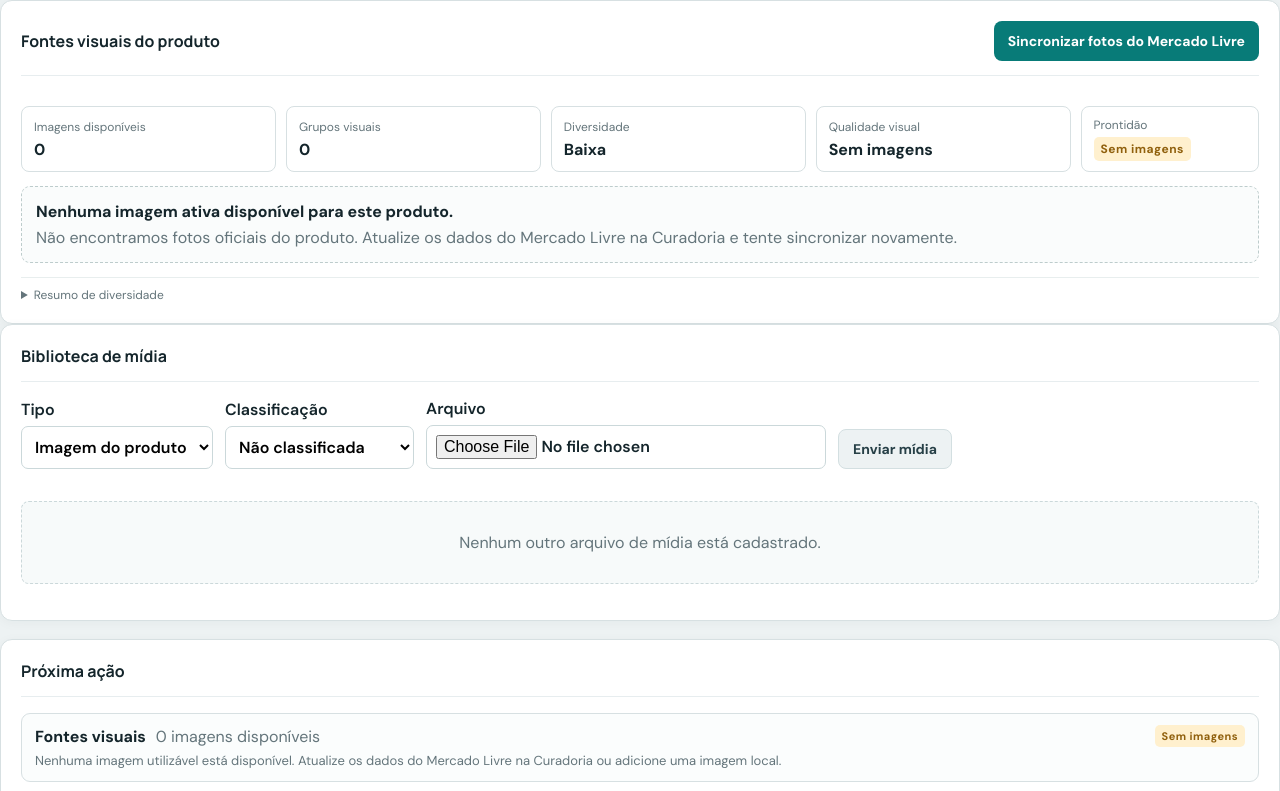
it: workspace de fontes visuais do produto › mostra estado vazio e mantém a preparação uma ação explícita
Expected: the text "Nenhuma imagem ativa disponível para este produto." is shown, top-left (36, 201), bottom-right (453, 222)
Expected: the text "Não encontramos fotos oficiais do produto" is shown, top-left (36, 227), bottom-right (957, 248)
Step 1. Click the button "Sincronizar fotos do Mercado Livre" → {"x": 1126, "y": 41}, box top-left (994, 21), bottom-right (1259, 61)
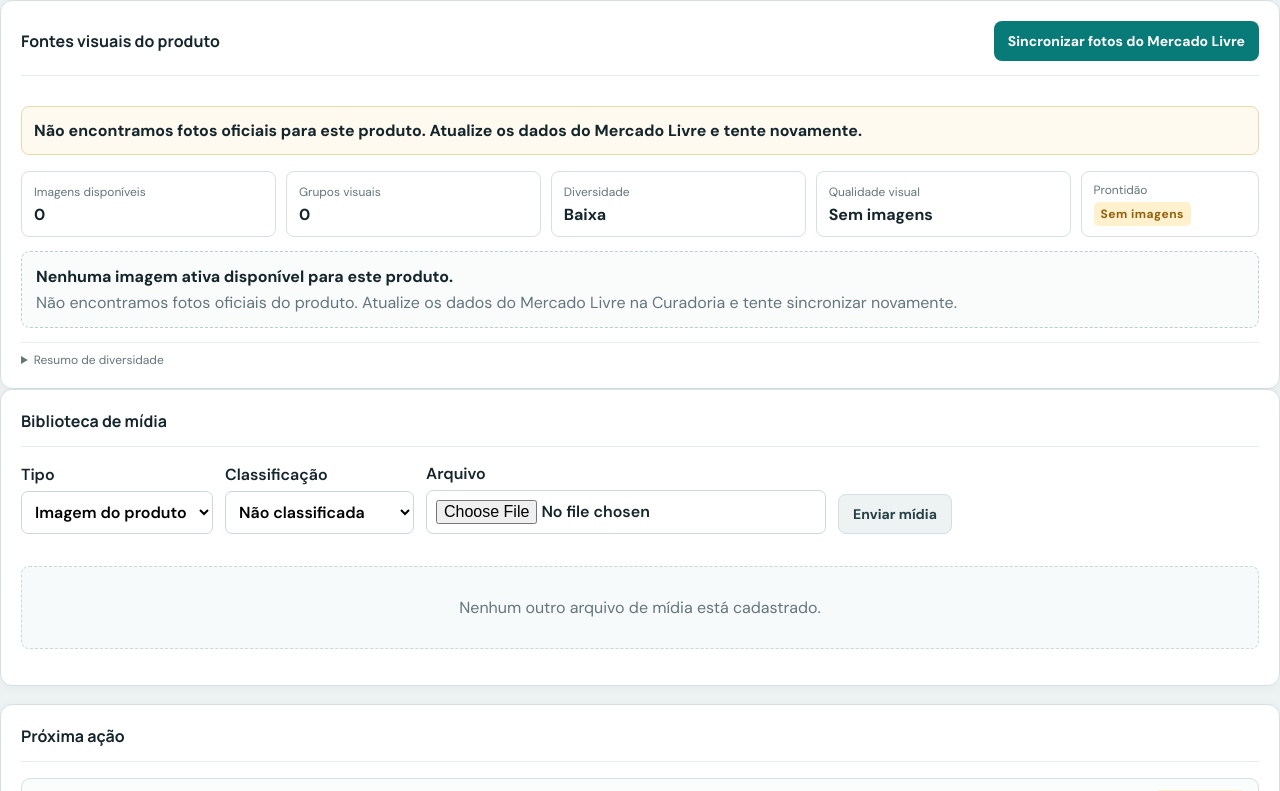
Result: the text "Não encontramos fotos oficiais para este produto. Atualize os dados do Mercado Livre e tente novamente." is shown at top-left (34, 120), bottom-right (862, 141)
